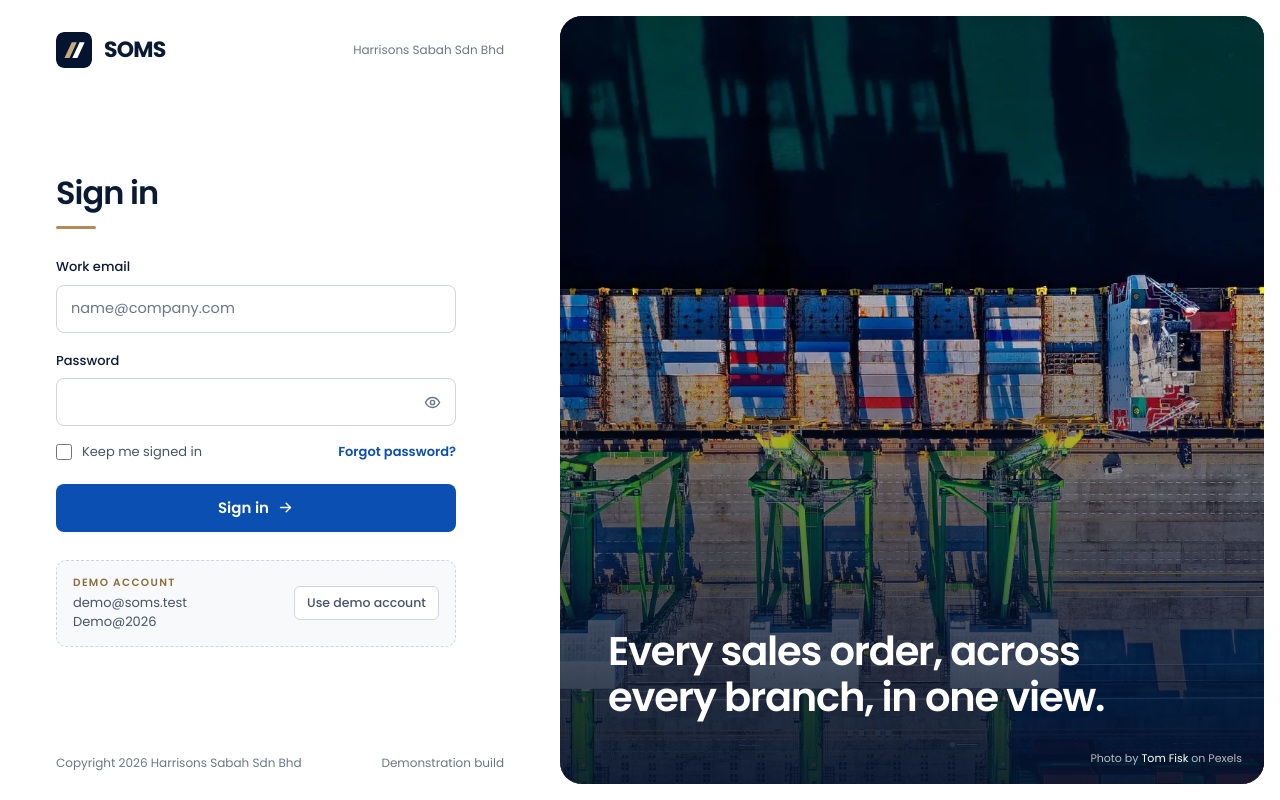
Scenario: Public pages and sign in › rejects a wrong password
The width and height of the screenshot is (1280, 800).
Type "nobody@example.com" into the field labelled "Work email".
click(256, 309); type("nobody@example.com")  # box [56,285,456,333]
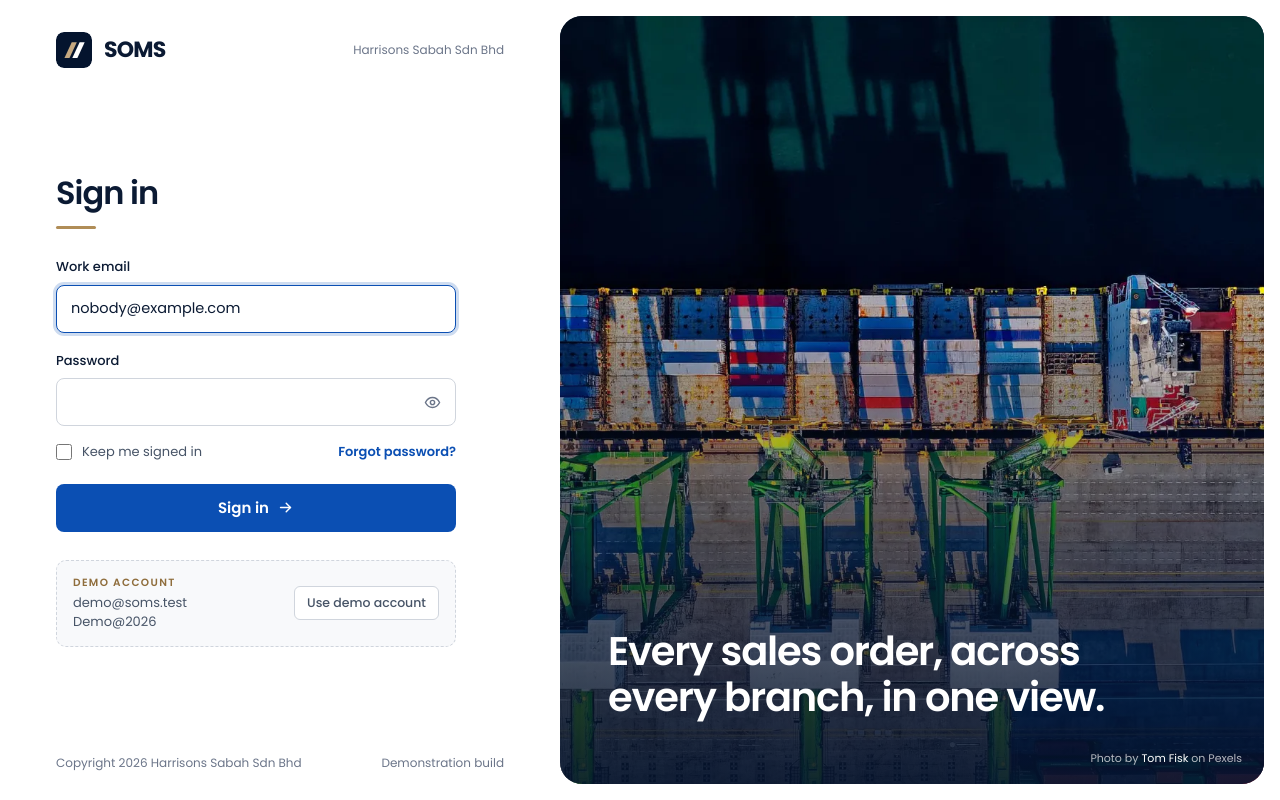
Type "wrong" into the password field labelled "Password".
click(256, 402); type("wrong")  # box [56,378,456,426]
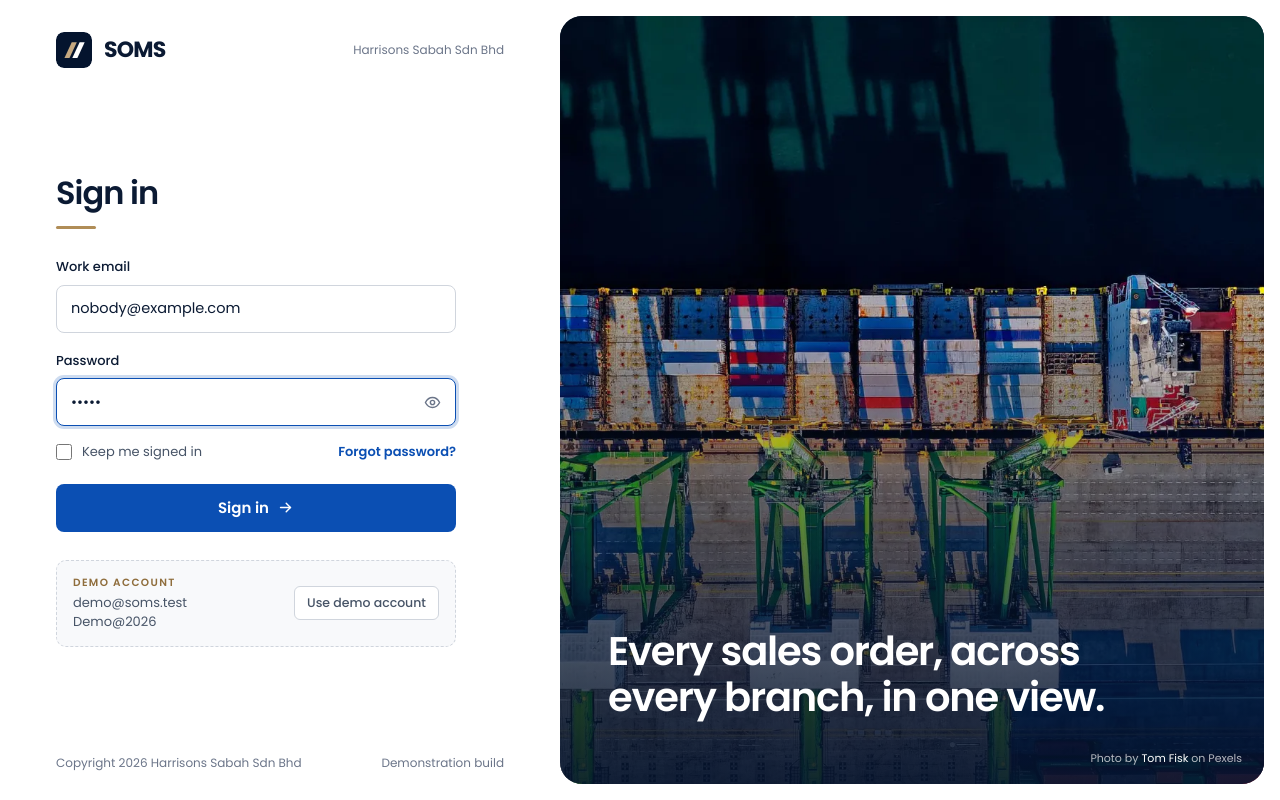
Click the button "Sign in".
click(256, 508)  # box [56,484,456,532]
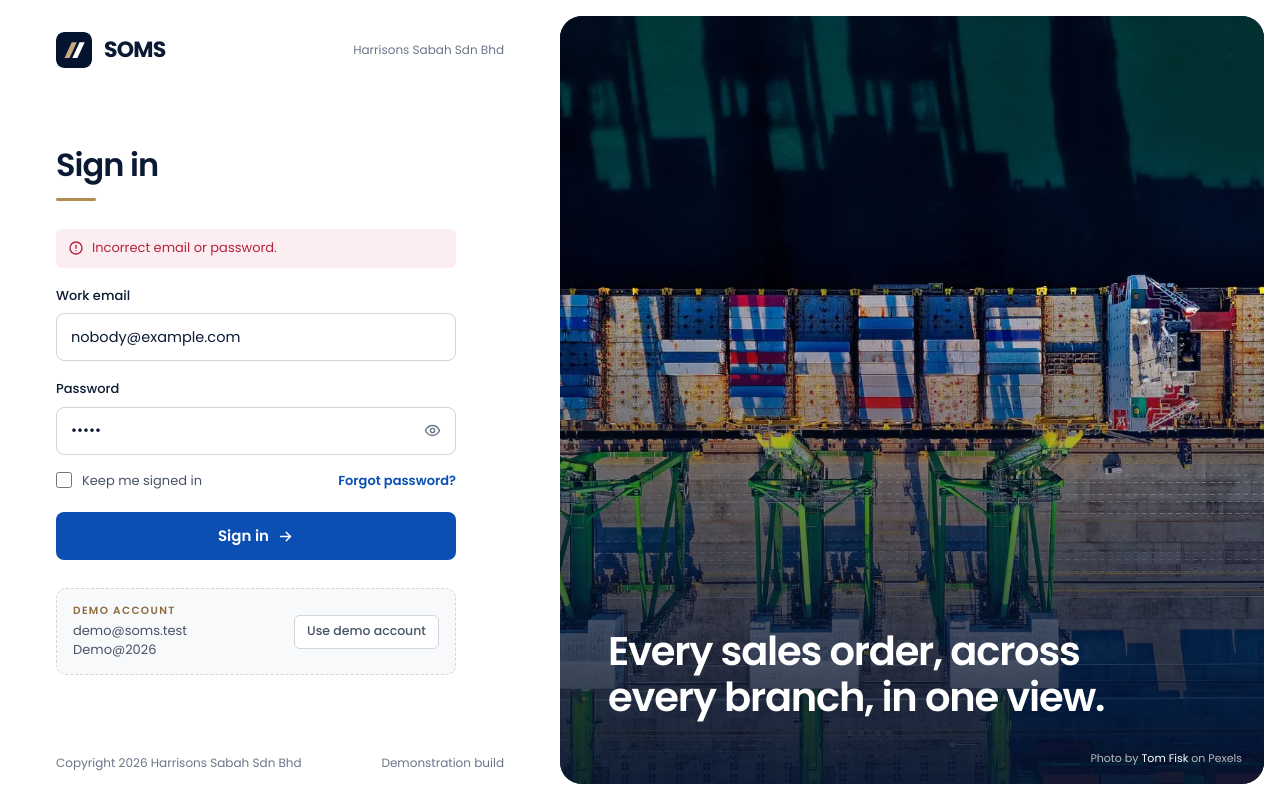
Expected: the message reads "Incorrect email or password.", [92,238,277,257]
